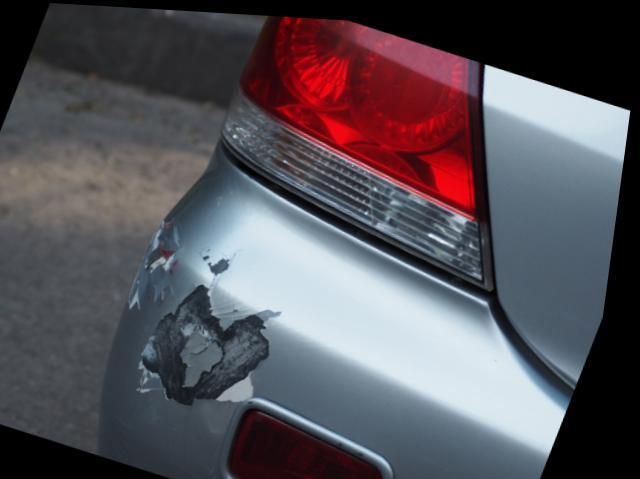scratch: (128, 211, 295, 406)
